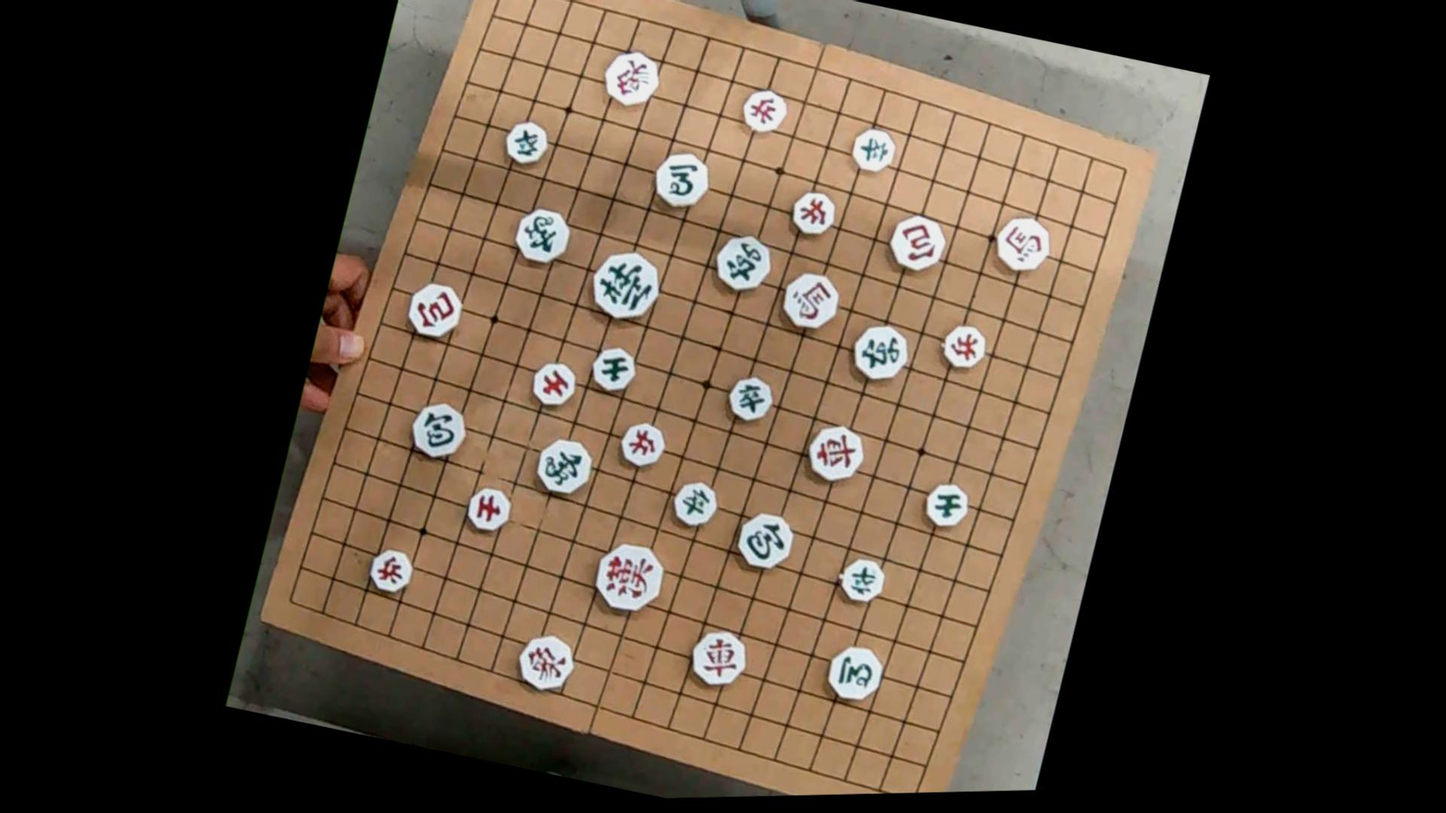cha_green: (847, 317, 911, 386), (711, 227, 774, 297)
cha_red: (804, 420, 865, 487), (687, 624, 748, 691)
jol_green: (724, 370, 774, 426), (670, 475, 719, 531), (500, 114, 549, 168), (849, 123, 897, 177), (837, 553, 886, 604)
jol_red: (618, 418, 667, 473), (938, 321, 987, 374), (365, 544, 413, 598), (789, 184, 836, 238), (740, 85, 789, 136)
ma_green: (649, 145, 712, 215), (824, 638, 886, 708)
ma_red: (993, 212, 1054, 278), (779, 268, 841, 330)
po_green: (408, 397, 468, 462), (735, 506, 794, 571)
po_red: (402, 275, 465, 342), (886, 209, 948, 275)
sa_green: (587, 342, 639, 395), (923, 480, 972, 530)
sa_red: (529, 355, 578, 412), (463, 484, 515, 534)
sang_green: (532, 430, 595, 501), (511, 202, 574, 267)
sang_red: (600, 46, 665, 112), (516, 628, 578, 696)
wang_green: (588, 242, 664, 327)
wang_red: (590, 540, 665, 614)
